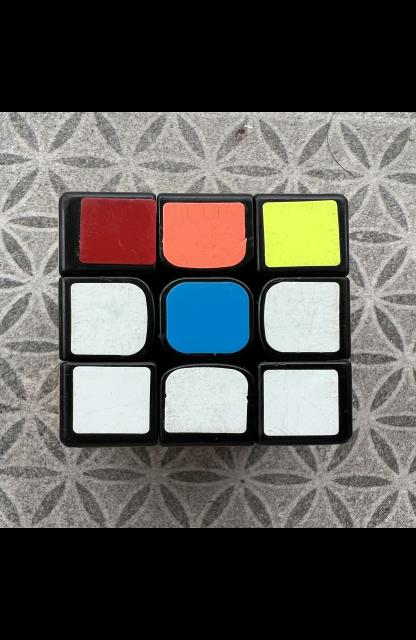Blue: (166, 282, 248, 354)
Orange: (162, 202, 245, 269)
Red: (78, 198, 156, 265)
White: (69, 283, 147, 356), (163, 368, 247, 434), (263, 282, 339, 352), (72, 367, 149, 434), (263, 370, 338, 436)
Yellow: (262, 200, 339, 267)
